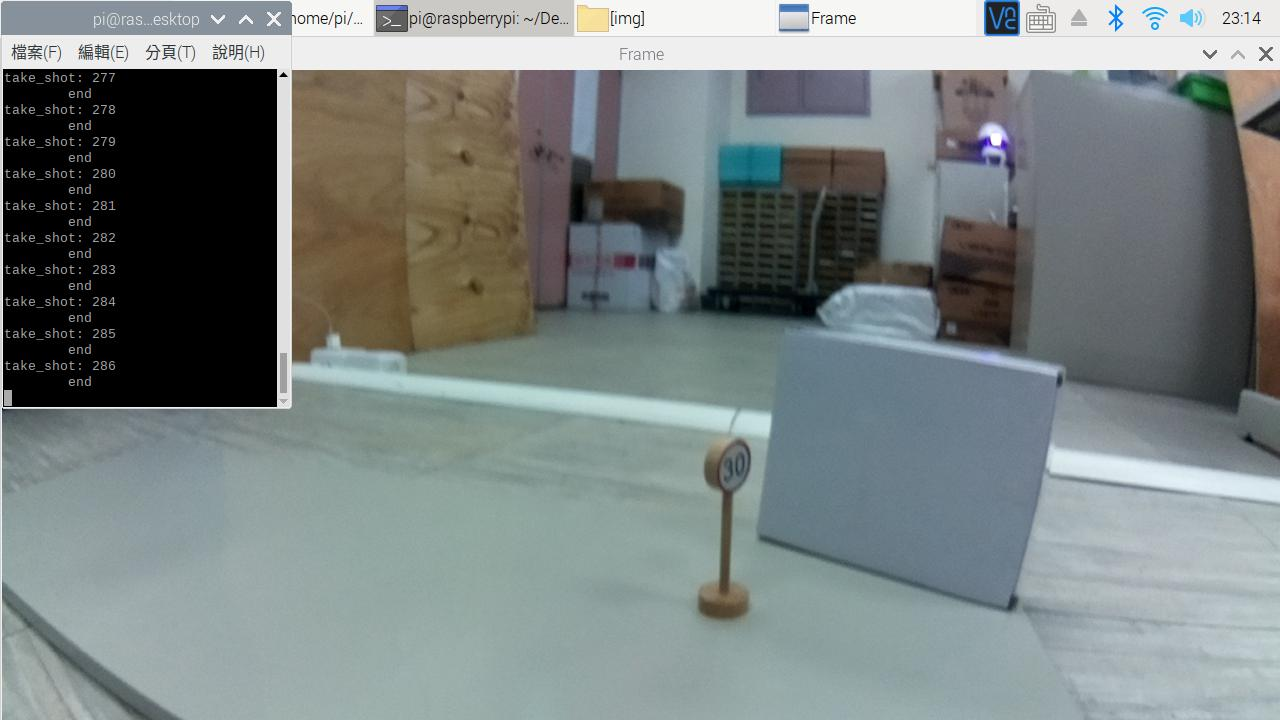Speed30: (694, 426, 772, 508)
